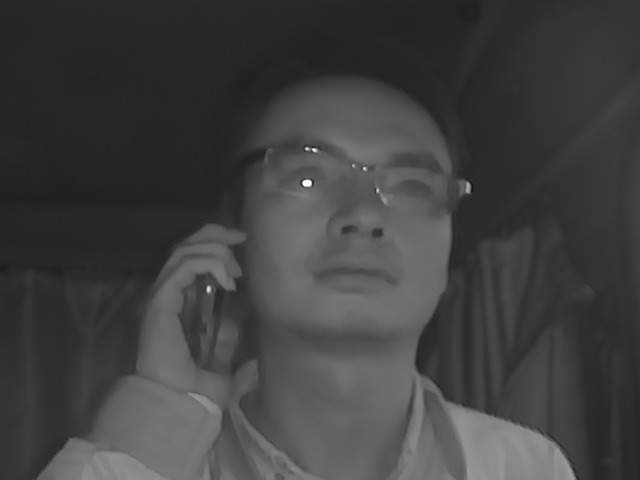hand: (133, 220, 249, 406)
